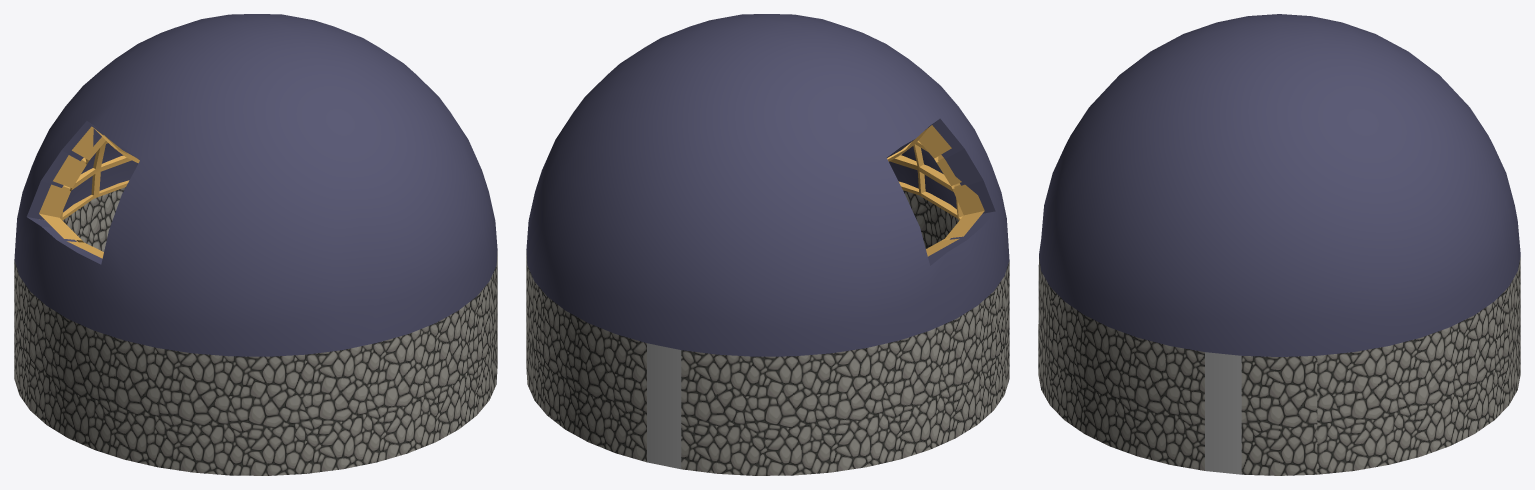
The model's file is observatoryTextured.fbx.
3 renders of one model, left to right at view 1: azimuth 30°, elevation 25°; view 2: azimuth 150°, elevation 25°; view 3: azimuth 270°, elevation 25°, orthographic.
Visible parts, largest first — view 1: pCylinder4, pSphere1; view 2: pCylinder4, pSphere1; view 3: pCylinder4.
Part boxes in pixels (x1,y1,x2,y2): pCylinder4: (14,14,497,475); pSphere1: (39,126,139,258); pCylinder4: (526,14,1009,475); pSphere1: (887,125,984,256); pCylinder4: (1038,14,1520,475).
Size of the model in its own units: 2.04 by 1.58 by 2.04.
